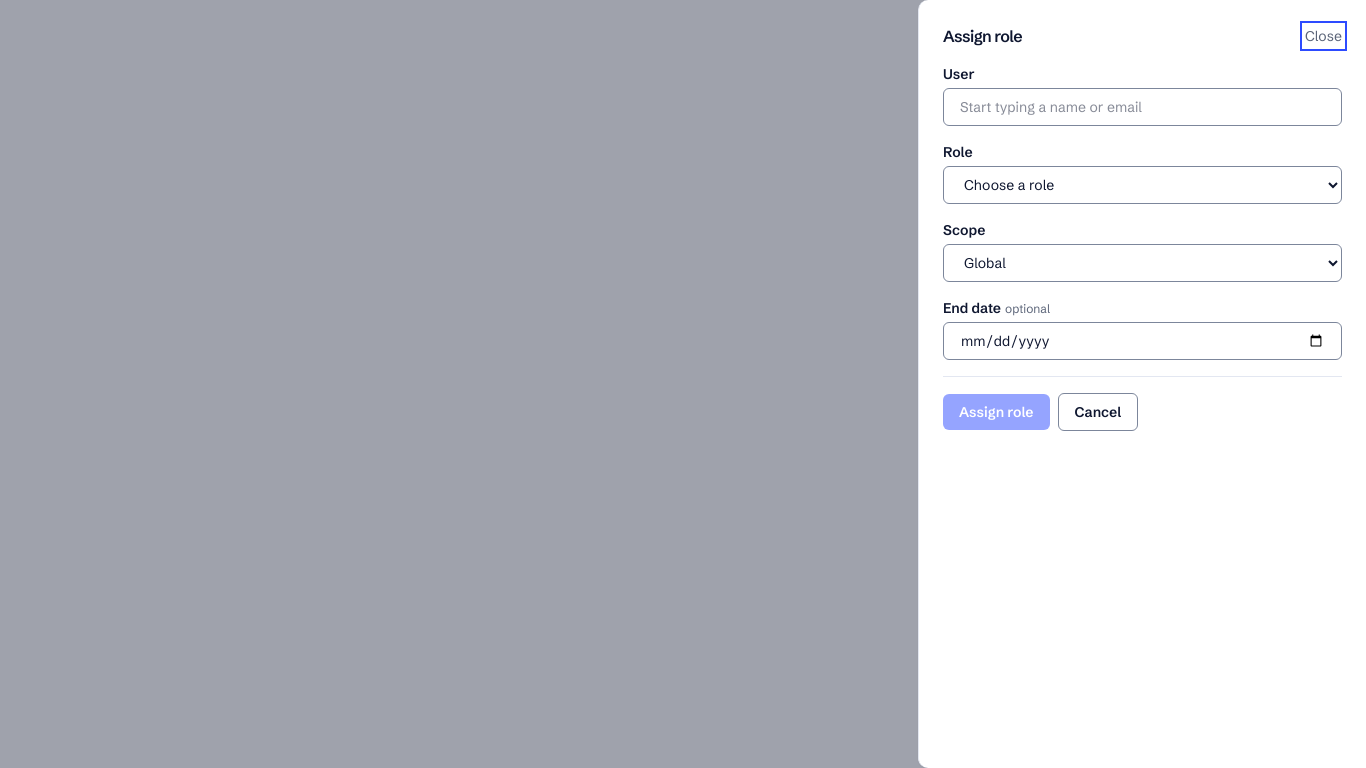
ignores superseded user responses and offers retry after rejection
This screenshot has width=1366, height=768.
In the field with placeholder "Start typing a name or email": (1142, 107) [943,88,1342,126], type "old"
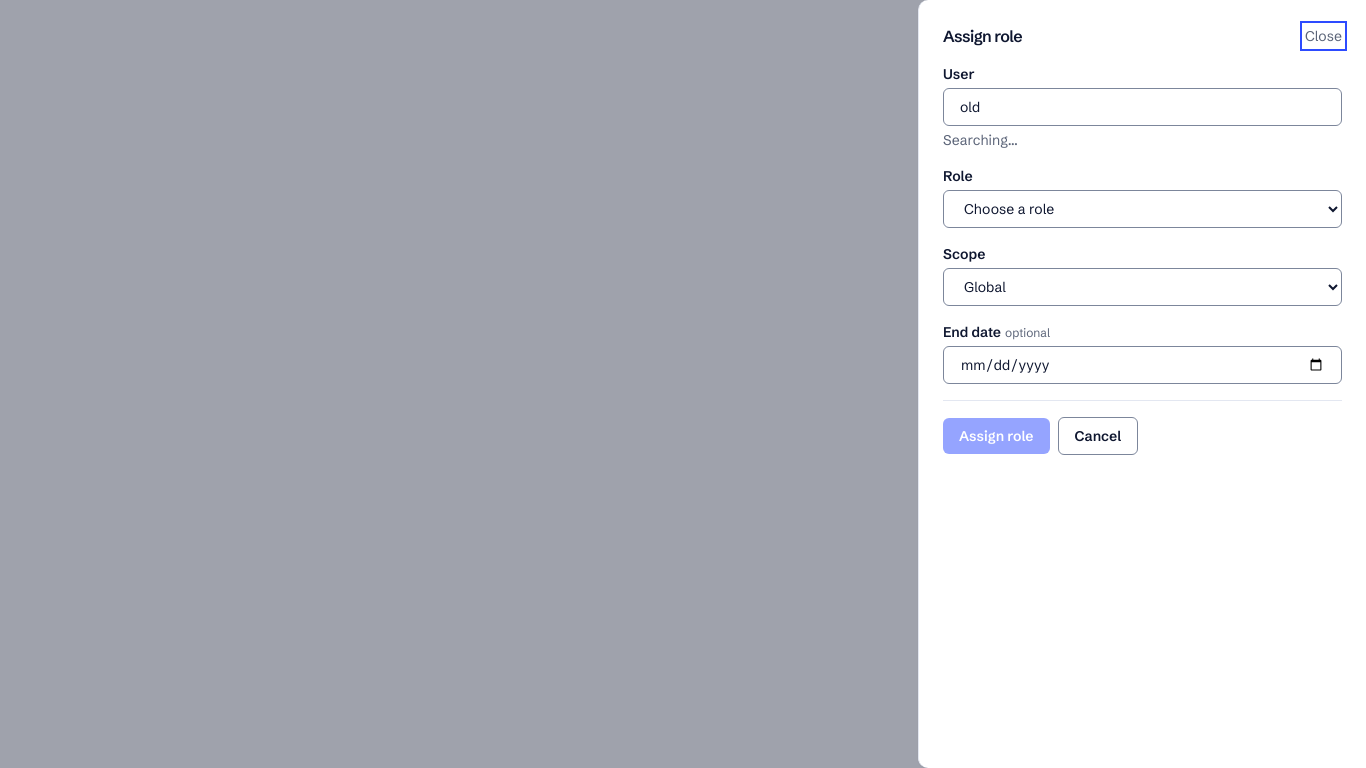
Replace the text in the field with placeholder "Start typing a name or email" with "new": (1142, 107) [943,88,1342,126]
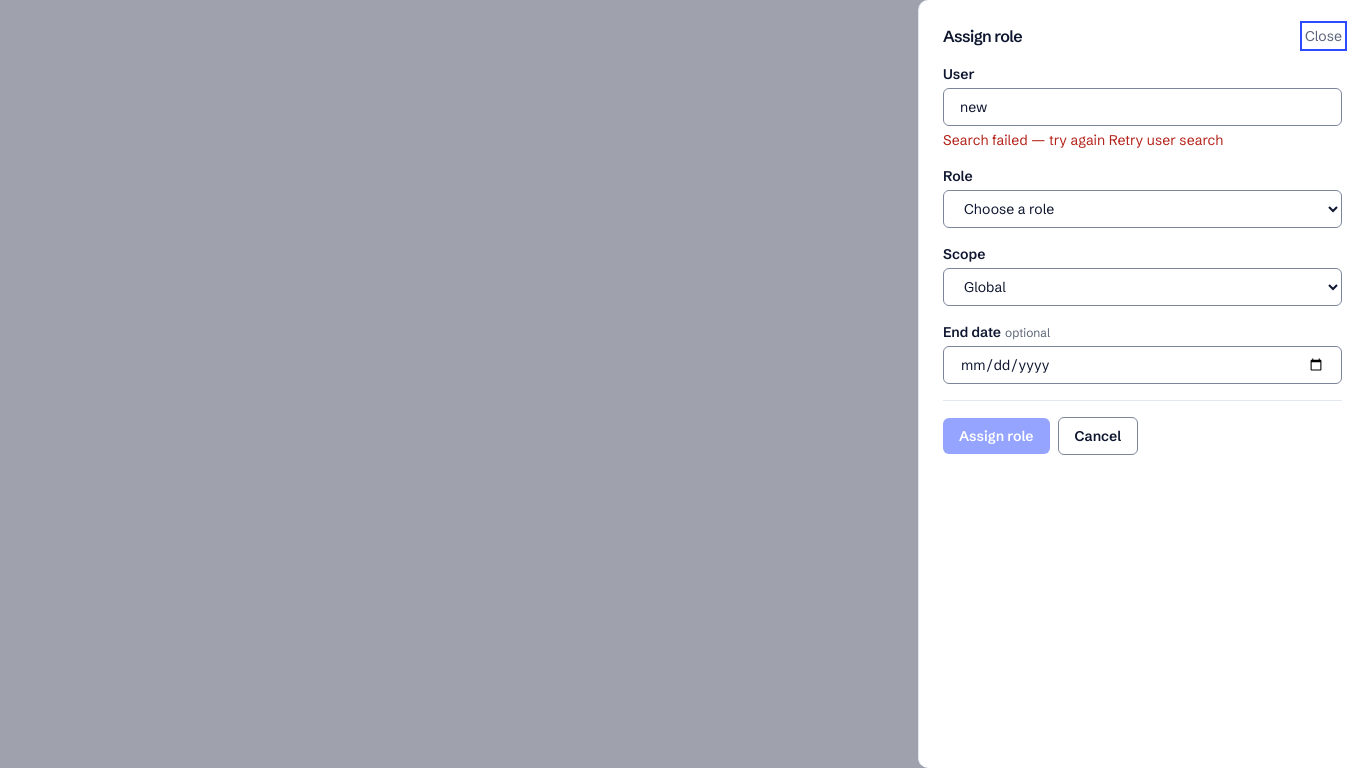
expect the button "Retry user search" is shown: met
Click the button "Retry user search": (1166, 140) [1109,130,1223,150]
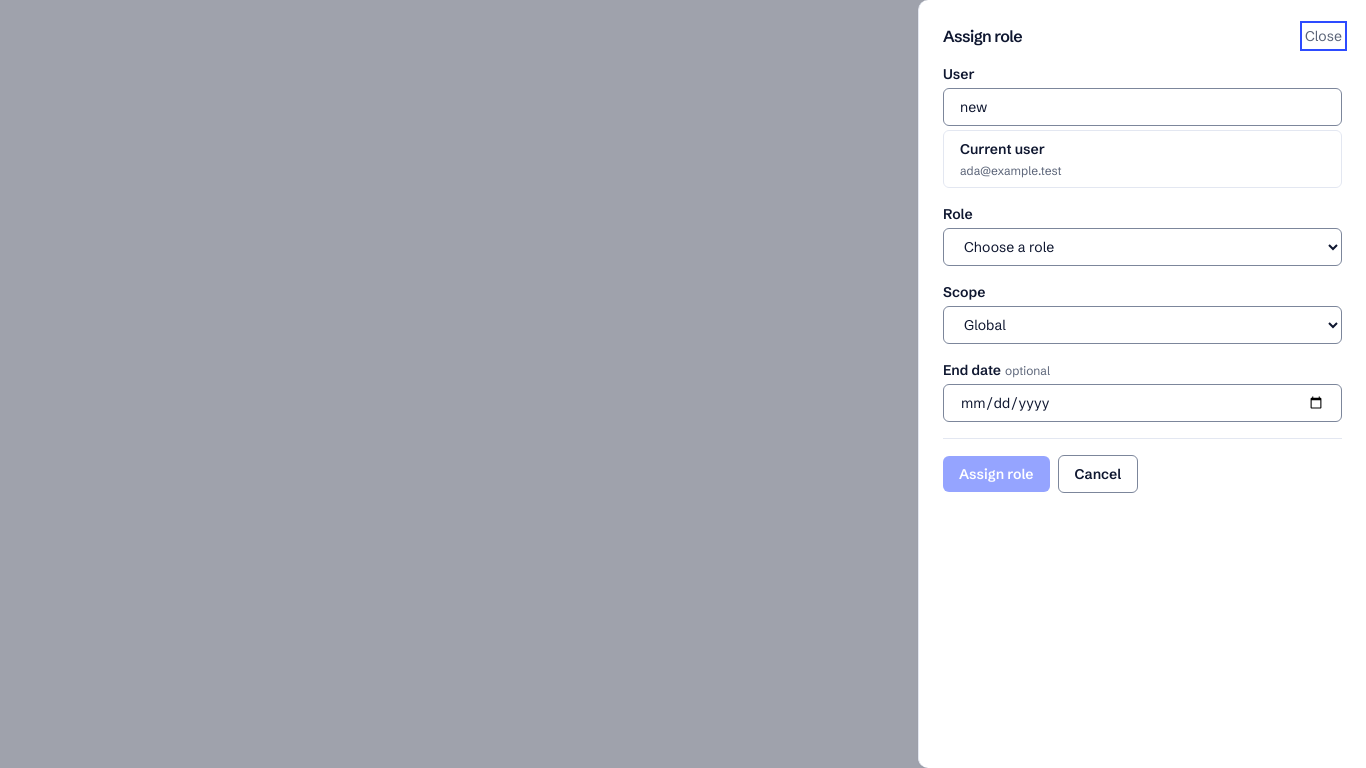
expect the text "Current user" is shown: met, box [960,139,1045,159]
